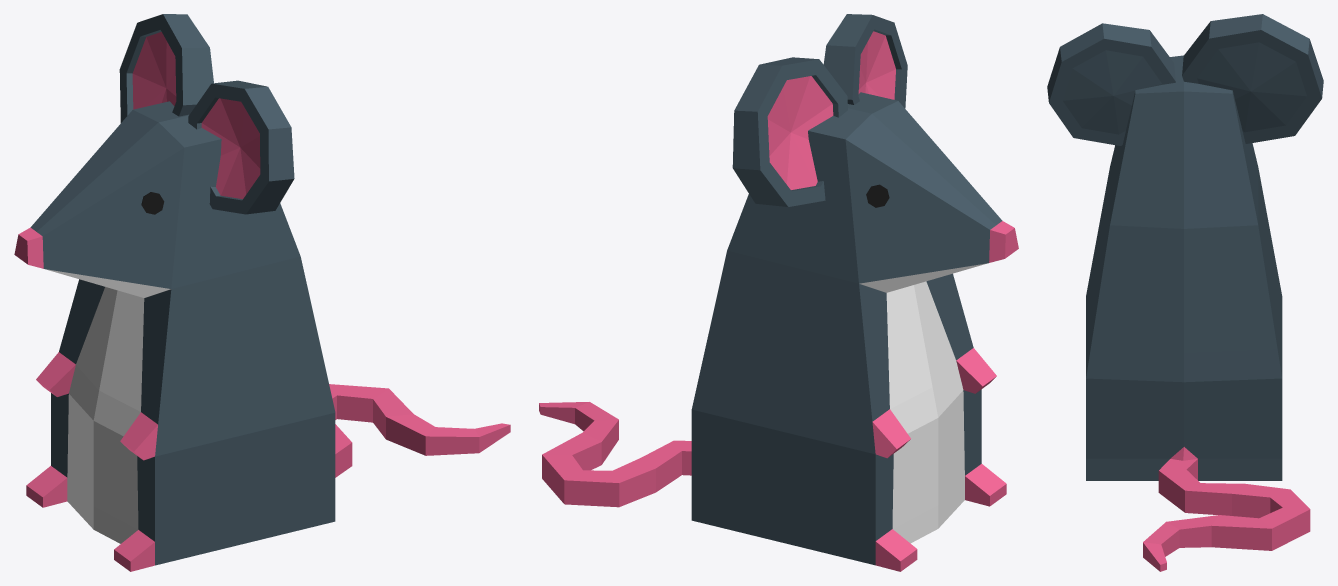
The model's file is Mouse.glb.
3 renders of one model, left to right at view 1: azimuth 30°, elevation 25°; view 2: azimuth 150°, elevation 25°; view 3: azimuth 270°, elevation 25°, orthographic. The views are drawn at different scales.
Visible parts, largest first — view 1: Cube.024; view 2: Cube.024; view 3: Cube.024.
Part boxes in pixels (<box>): Cube.024: <box>14,14,510,571</box>; Cube.024: <box>539,14,1018,571</box>; Cube.024: <box>1047,14,1323,571</box>.
Bounding box in the file's own units: 208 × 191 × 111.
